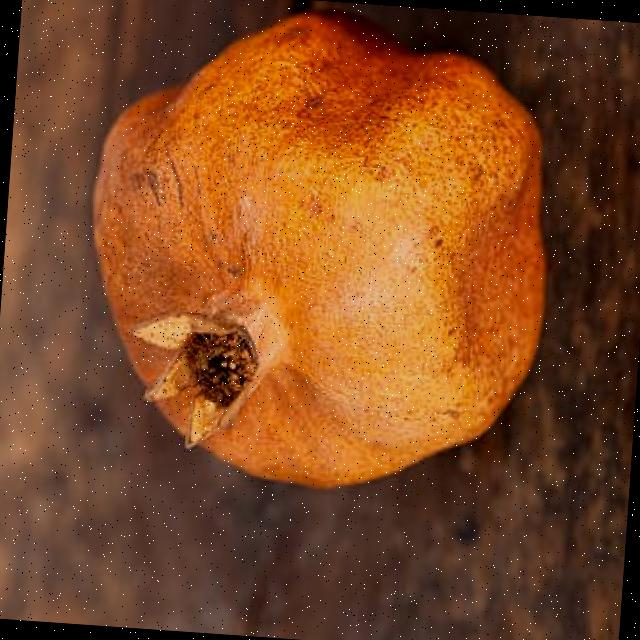overripe: (66, 0, 569, 507)
